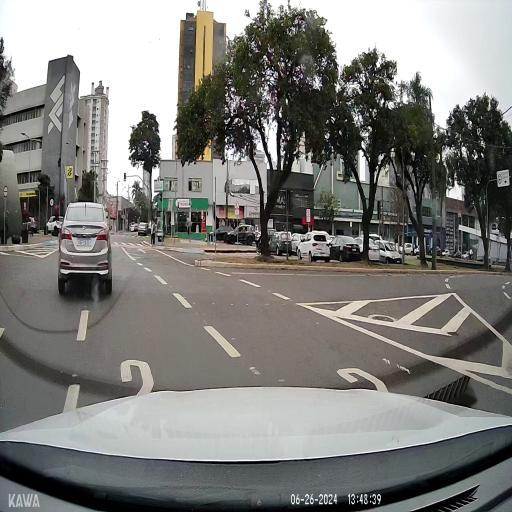R-24a: (4, 186, 8, 198)
R-6b: (235, 202, 239, 208)
